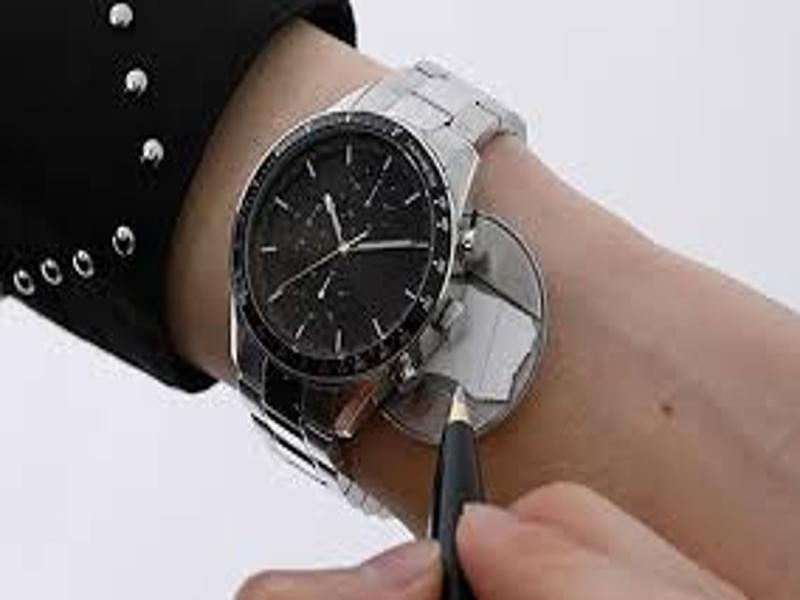watch: (227, 57, 531, 519)
